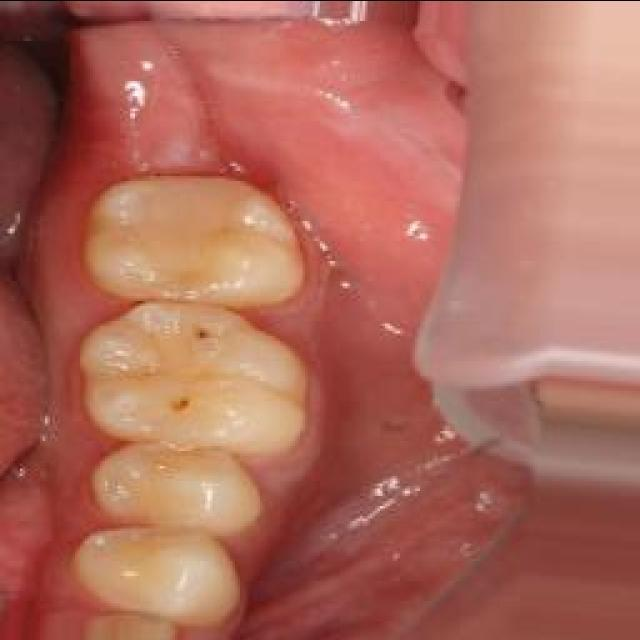decay: (192, 322, 218, 350), (165, 393, 197, 413)
